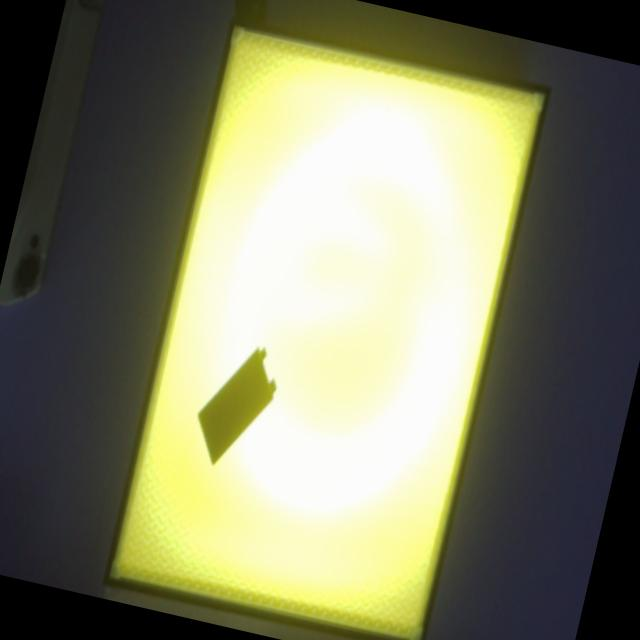bateria: (196, 346, 276, 465)
mesa: (99, 14, 552, 640)
